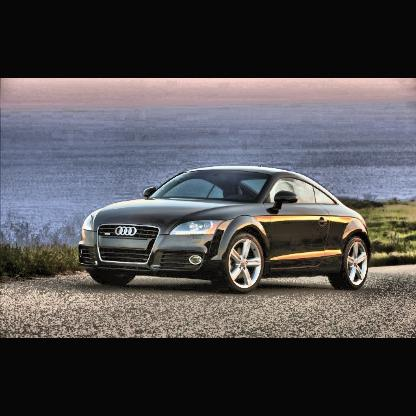Audi TTS Coupe 2012: (78, 164, 375, 297)
